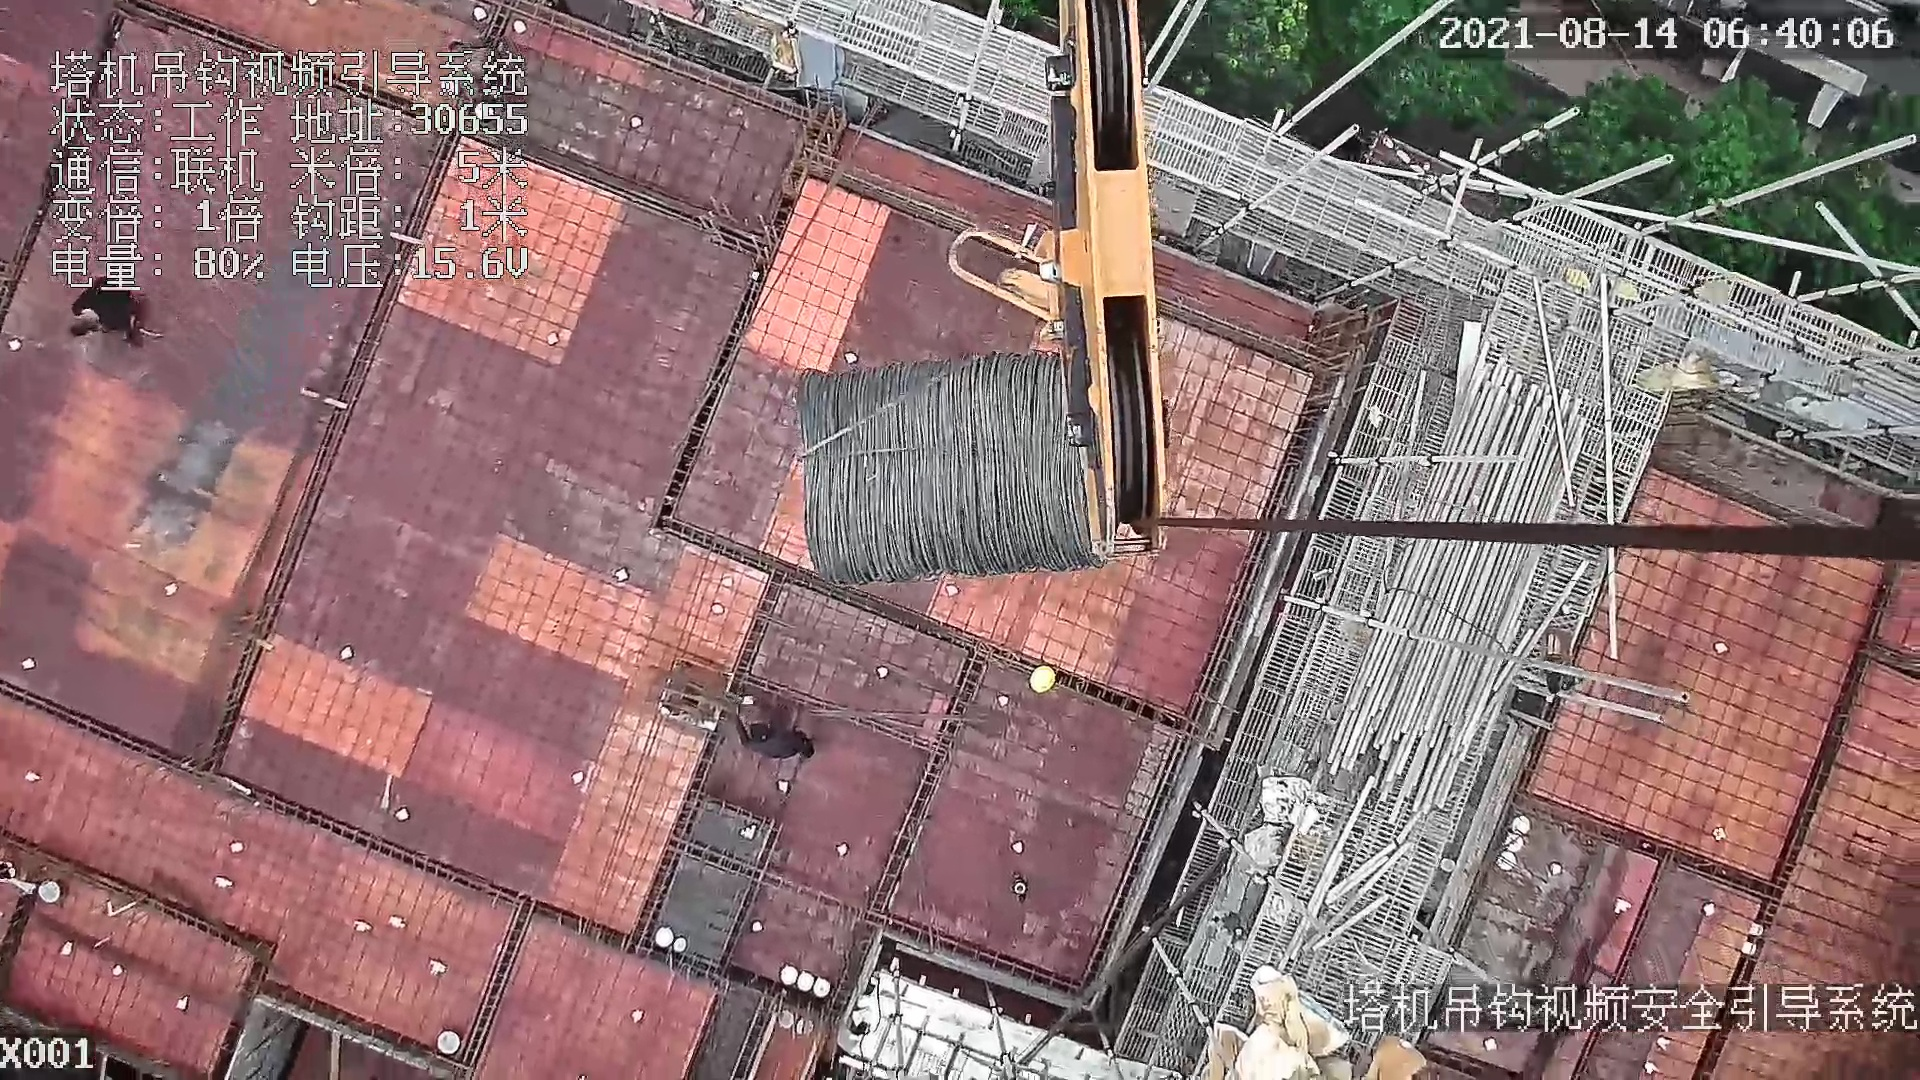helmet: (1030, 664, 1058, 691)
hook: (937, 1, 1170, 564)
person: (59, 281, 156, 344), (731, 703, 815, 763), (440, 38, 519, 97)
